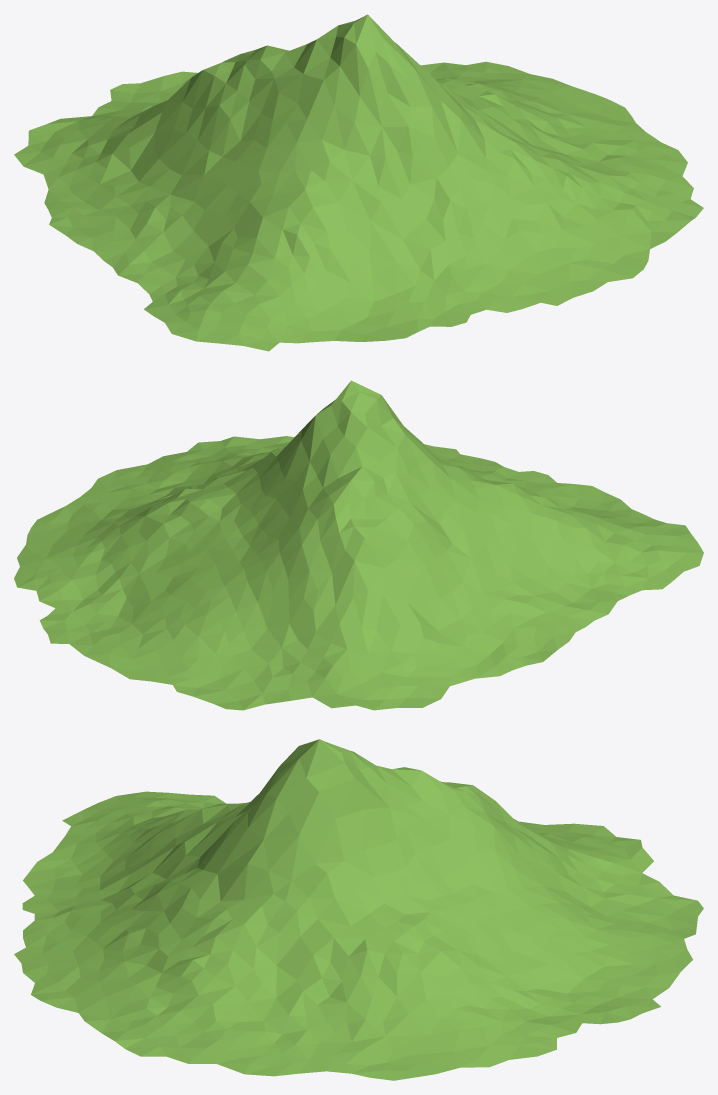
The model's file is MT_Mountain_L_a_31_LOD.fbx.
3 renders of one model, top to bottom at view 1: azimuth 30°, elevation 25°; view 2: azimuth 150°, elevation 25°; view 3: azimuth 270°, elevation 25°, orthographic. The views are drawn at different scales.
Parts seen in each view (by area): view 1: MT_Mountain_L_a_31_LOD0; view 2: MT_Mountain_L_a_31_LOD0; view 3: MT_Mountain_L_a_31_LOD0.
Boxes of the visible parts, <box> form: MT_Mountain_L_a_31_LOD0: <box>14,14,703,351</box>; MT_Mountain_L_a_31_LOD0: <box>14,380,703,710</box>; MT_Mountain_L_a_31_LOD0: <box>14,739,703,1080</box>.
Size of what is drawn, in the model's own units: 8840 by 2857 by 9006.
